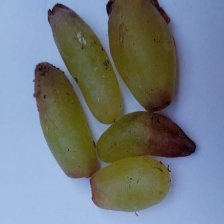grapes: (27, 38, 163, 196)
